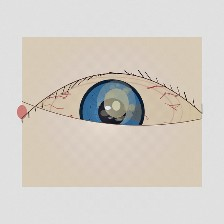corneal_ulcer: (93, 84, 140, 122)
